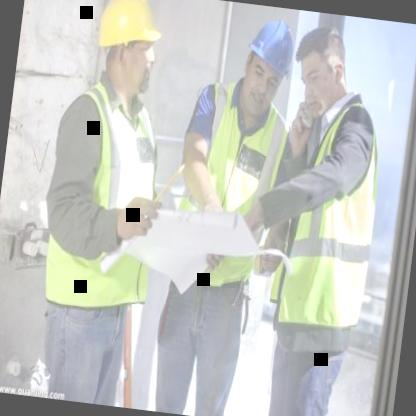head: (284, 16, 358, 124)
helmet: (88, 0, 165, 100), (233, 12, 298, 123)
